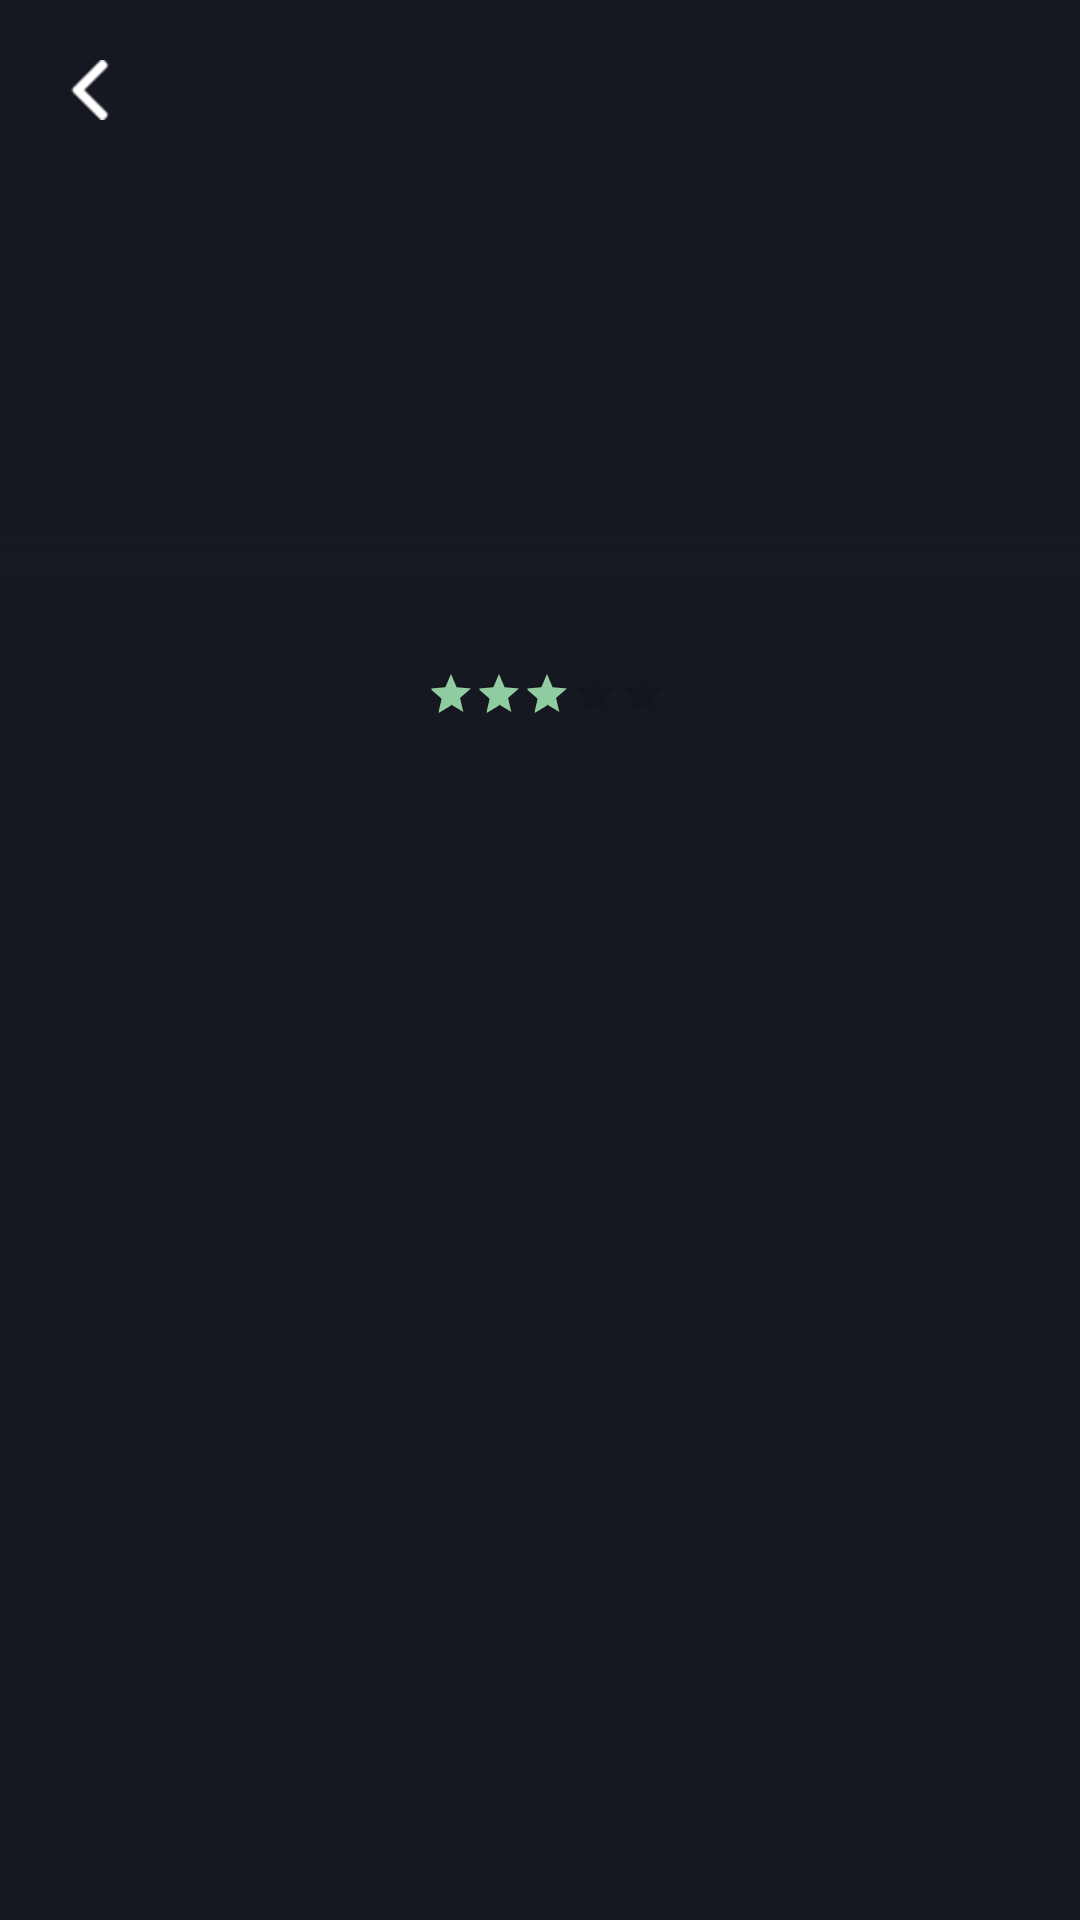

Screen size 1080x1920. Icon name, then its center in pixels as (x=x, y=y):
back: (x=90, y=90)
